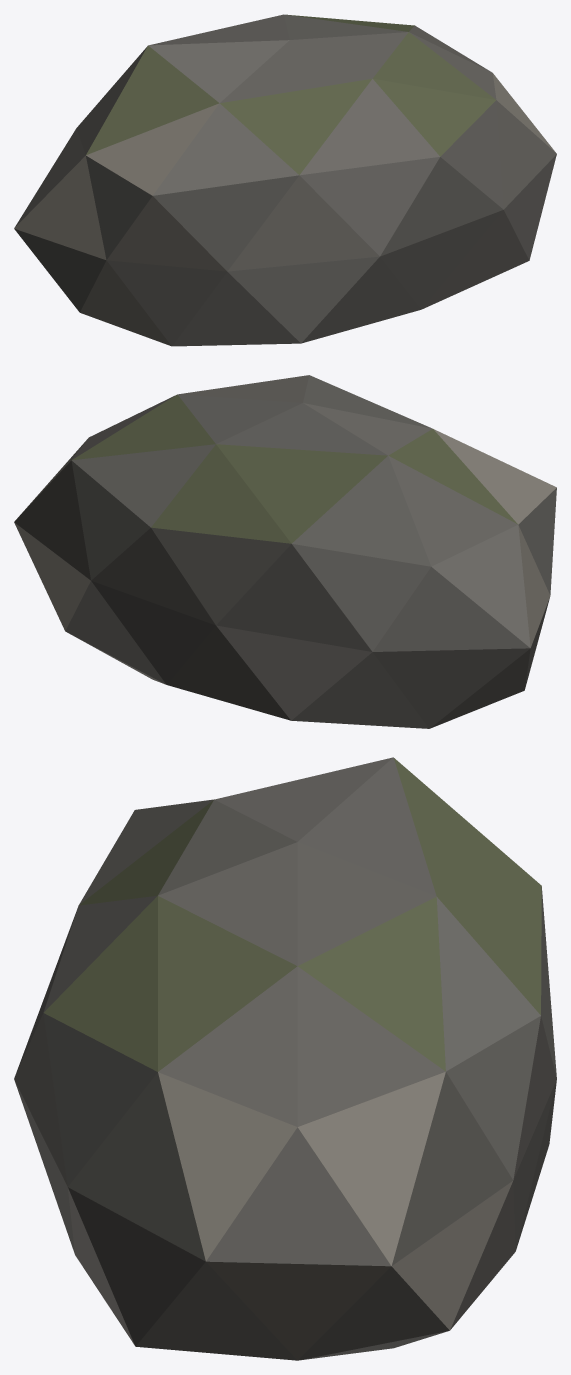
The model's file is E6_rock_d.glb.
The picture shows the model from 3 angles, top to bottom: view 1: azimuth 30°, elevation 25°; view 2: azimuth 150°, elevation 25°; view 3: azimuth 270°, elevation 25°; orthographic projection. The views are drawn at different scales.
Visible parts, largest first — view 1: E6_rock_d; view 2: E6_rock_d; view 3: E6_rock_d.
Boxes of the visible parts, x1,y1,x2,y2 form: E6_rock_d: [14, 14, 556, 346]; E6_rock_d: [14, 375, 556, 728]; E6_rock_d: [14, 757, 556, 1360].
Bounding box in the file's own units: 1.15 × 0.6 × 0.7024.
